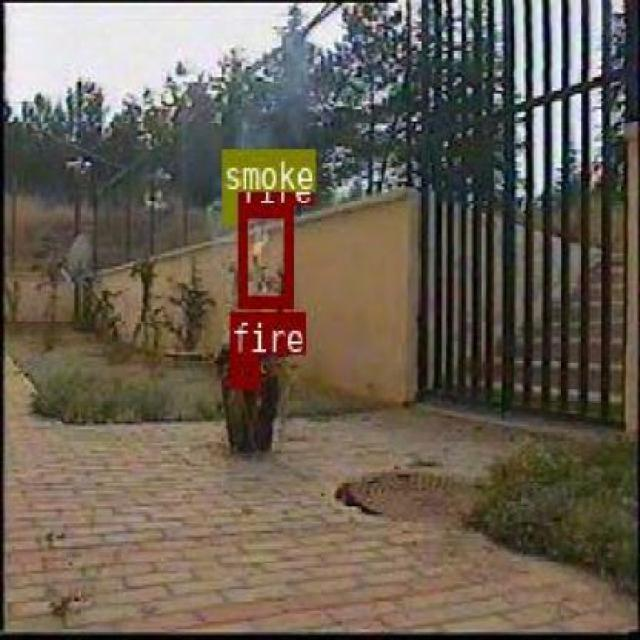Fire: (236, 204, 290, 306), (228, 352, 256, 386)
Smoke: (222, 192, 236, 222)
